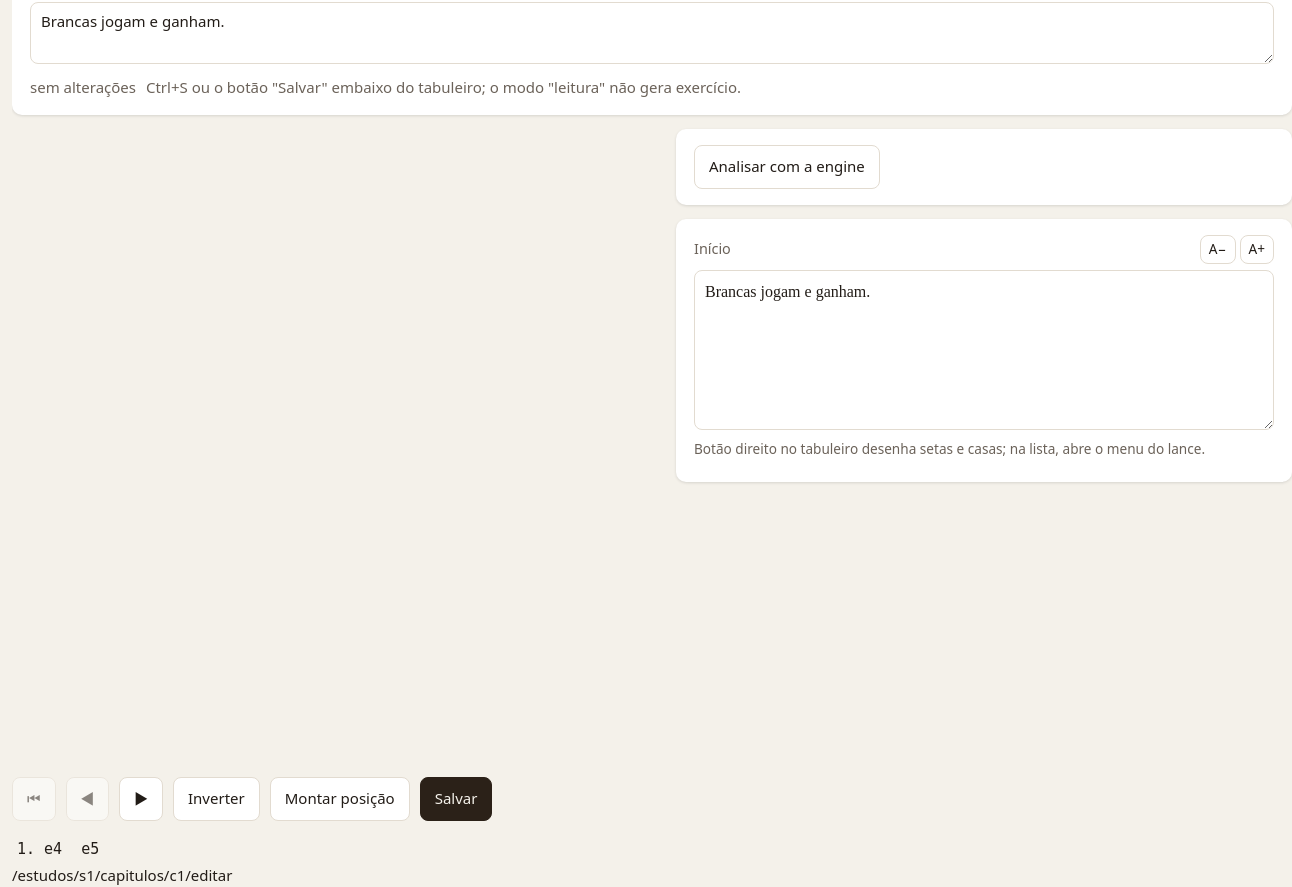
Scenario: erro 422 lista as mensagens do servidor
The image size is (1292, 887).
(page scrolled)
Step 1. Click the button "Salvar" → (456, 799), box [420,777,492,821]
(page scrolled)
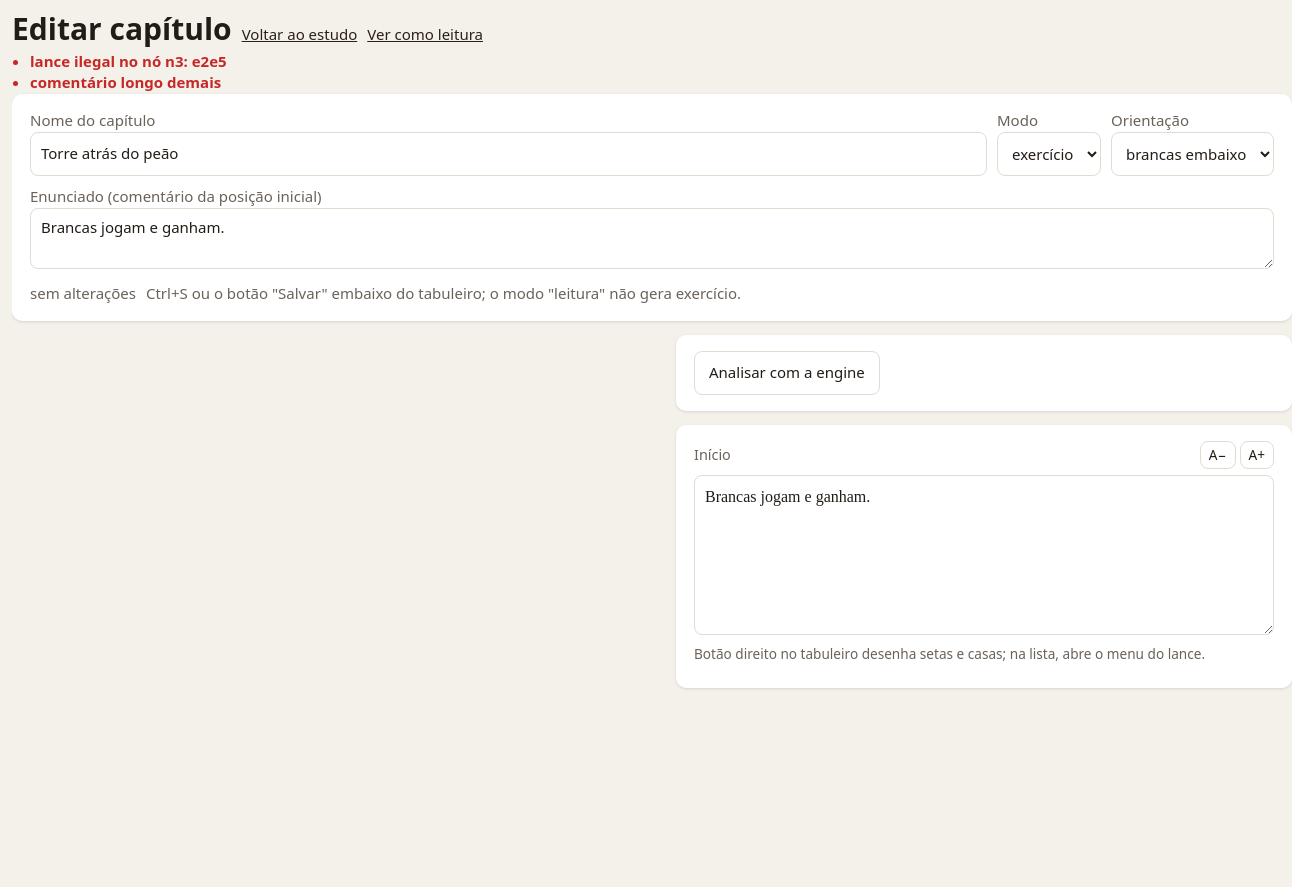
expect the list item "lance ilegal no nó n3: e2e5" is shown: met, box [30,51,227,71]
expect the list item "comentário longo demais" is shown: met, box [30,72,221,92]
